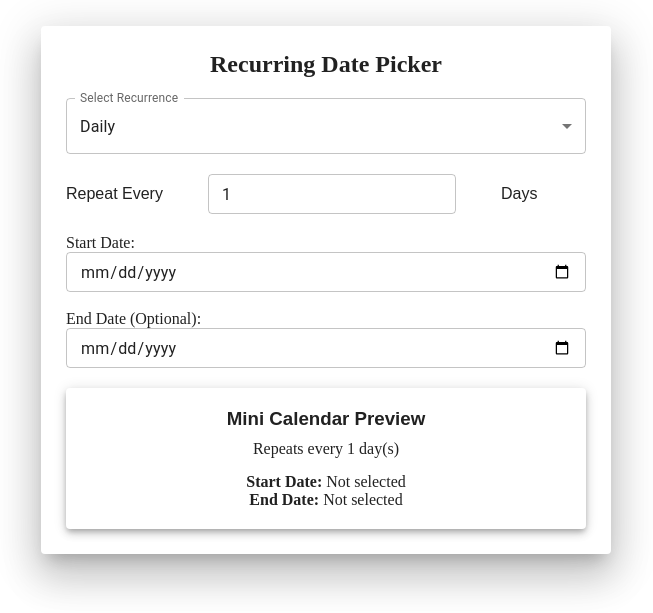
RecurringDatePicker Integration Tests › shows date range in MiniCalendar
In the date field labelled "Start Date:": (326, 272) left=66, top=252, right=586, bottom=292, type "2025-07-20"
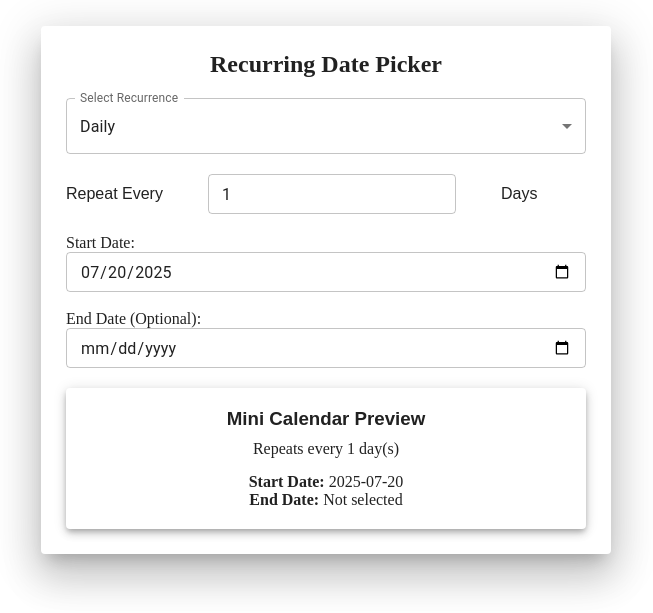
expect the text "2025-07-20" is shown: met, box left=329, top=473, right=403, bottom=490
